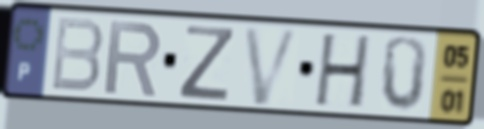0: (379, 34, 430, 115)
B: (47, 15, 106, 95)
H: (311, 32, 375, 112)
R: (101, 17, 165, 98)
V: (240, 24, 304, 108)
Z: (175, 22, 238, 103)
